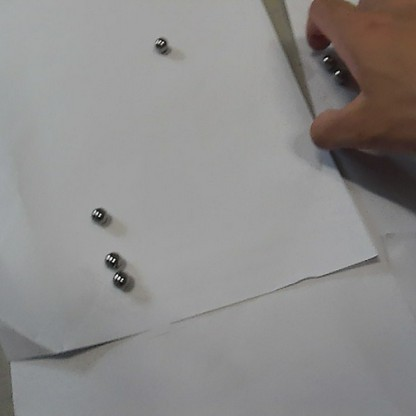ironball: (103, 249, 123, 271), (112, 269, 131, 291), (90, 204, 106, 224), (331, 66, 347, 85), (153, 35, 168, 51), (319, 54, 334, 67)
